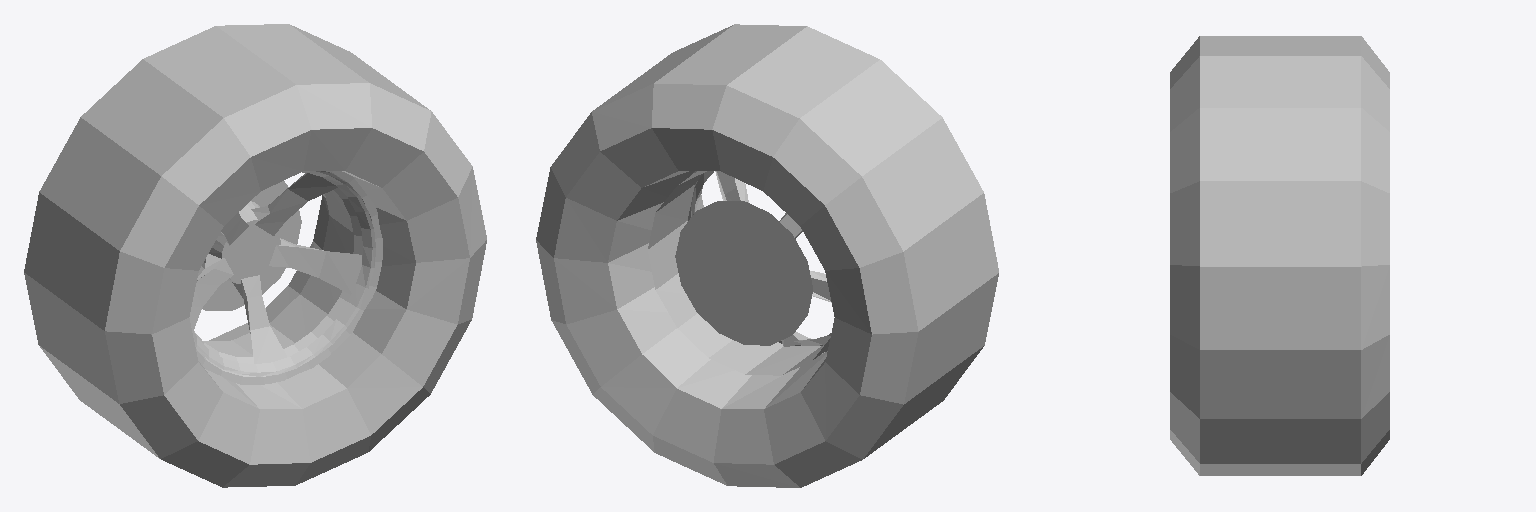
Rendered from whellLeftSide.obj.
3 views of the same model, side by side, from view 1: azimuth 30°, elevation 25°; view 2: azimuth 150°, elevation 25°; view 3: azimuth 270°, elevation 25° (orthographic).
Visible parts, largest first — view 1: Mesh__Orphans; view 2: Mesh__Orphans; view 3: Mesh__Orphans.
Boxes of the visible parts, box(x1,y1,x2,y2) form: Mesh__Orphans: box(24, 24, 486, 487); Mesh__Orphans: box(536, 24, 998, 487); Mesh__Orphans: box(1170, 36, 1389, 475).
Size of the model in its own units: 4.02 by 4.02 by 2.